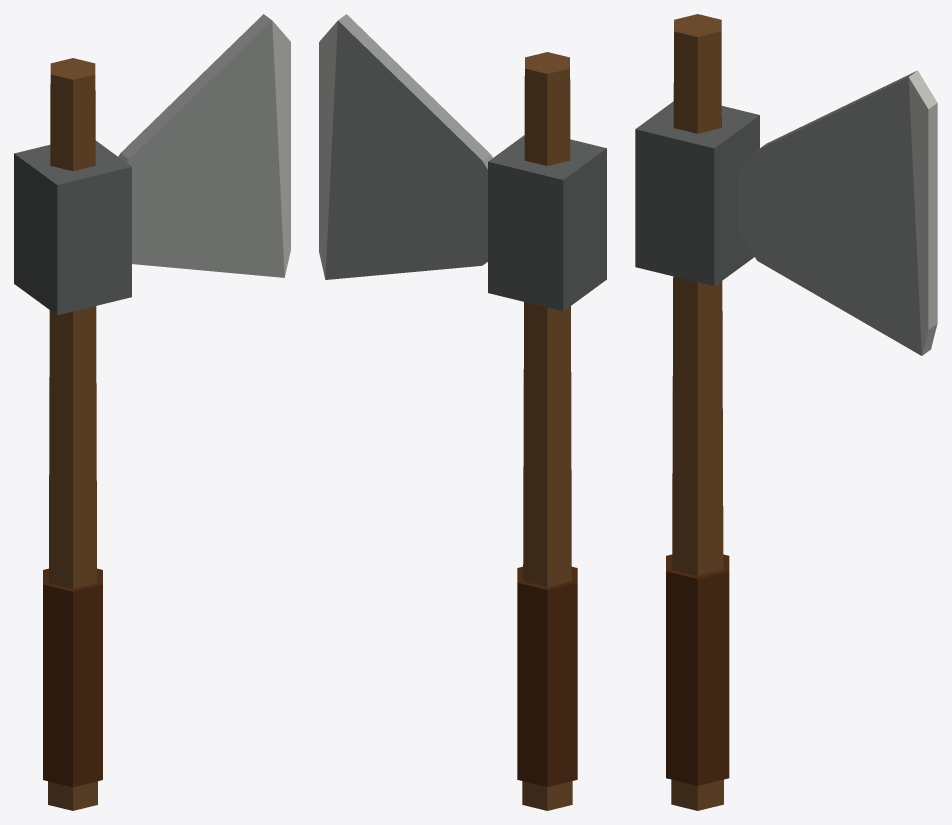
The model's file is hatchet.glb.
3 renders of one model, left to right at view 1: azimuth 30°, elevation 25°; view 2: azimuth 150°, elevation 25°; view 3: azimuth 330°, elevation 25°, orthographic. The views are drawn at different scales.
Visible parts, largest first — view 1: hatchet; view 2: hatchet; view 3: hatchet.
Part boxes in pixels (x1,y1,x2,y2): hatchet: [14, 14, 290, 810]; hatchet: [319, 14, 606, 810]; hatchet: [635, 14, 937, 810].
Size of the model in its own units: 0.205 by 0.56 by 0.06.
